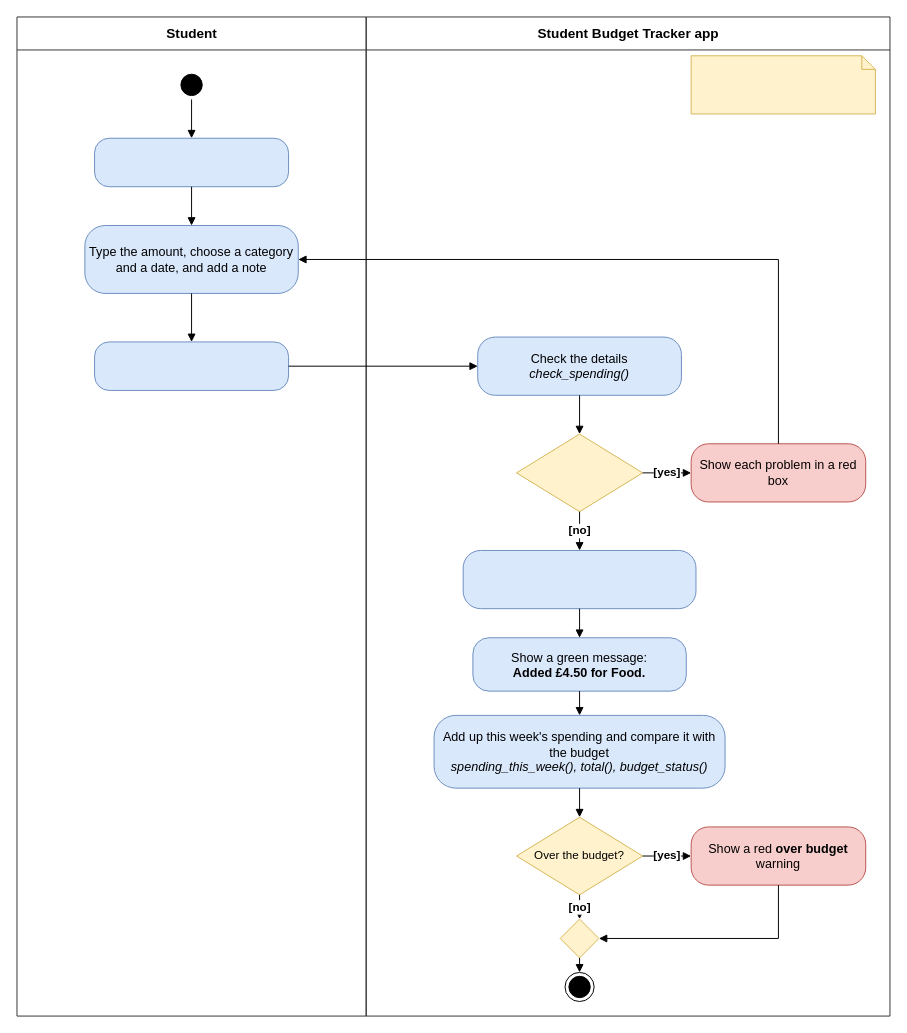
This 907x1033 diagram has some shape labels left out. The shapes that lost their labels are listed below. From the top down, each one's centre as x and y in pixels, then its label:
the point at 782,84: Before this starts, the student has logged in.
the point at 191,162: Choose Add spending on the left
the point at 191,365: Press Add spending
the point at 579,472: Any problems?
the point at 579,579: Save the entry in budget_data.json add_spending()
